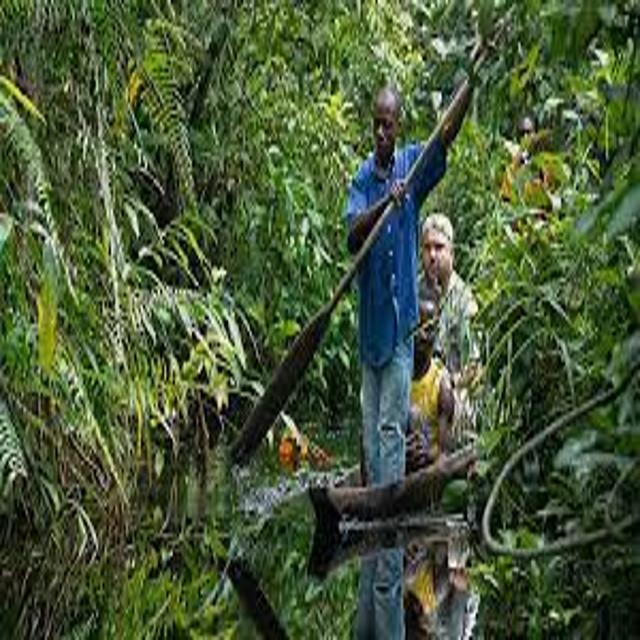poacher: (262, 50, 511, 546), (338, 198, 539, 471), (342, 277, 519, 505)
